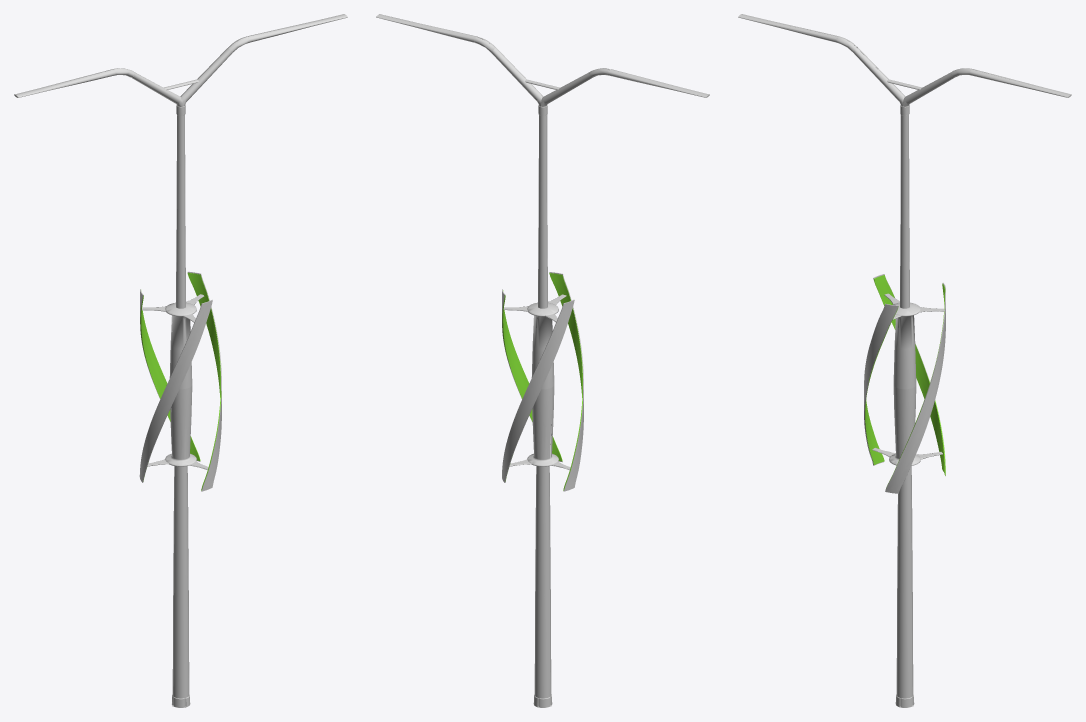
The model's file is fbx_wind_street_light_opt.fbx.
3 views of the same model, side by side, from view 1: azimuth 30°, elevation 25°; view 2: azimuth 150°, elevation 25°; view 3: azimuth 330°, elevation 25° (orthographic).
Parts seen in each view (by area): view 1: Obj_000268, Obj_000008, Obj_000001, Flex2[_006, Flex2[1], Flex2[2], Flex2[_005; view 2: Obj_000268, Obj_000008, Obj_000001, Flex2[_007, Flex2[2], Flex2[3], Flex2[_006; view 3: Obj_000268, Obj_000008, Obj_000001, Flex2[_005, Flex2[1], Flex2[_006, Flex2[3].
Part boxes in pixels (box(x1,y1,x2,y2)): Obj_000268: box(172, 115, 189, 698); Obj_000008: box(165, 302, 196, 466); Obj_000001: box(14, 14, 347, 106); Flex2[_006: box(139, 299, 212, 482); Flex2[1]: box(140, 295, 200, 460); Flex2[2]: box(187, 273, 221, 490); Flex2[_005: box(187, 271, 221, 491); Obj_000268: box(534, 115, 551, 698); Obj_000008: box(527, 302, 558, 466); Obj_000001: box(376, 14, 709, 106); Flex2[_007: box(502, 299, 574, 482); Flex2[2]: box(502, 290, 562, 461); Flex2[3]: box(549, 273, 582, 490); Flex2[_006: box(549, 272, 583, 491); Obj_000268: box(896, 115, 913, 698); Obj_000008: box(889, 302, 920, 465); Obj_000001: box(738, 14, 1071, 106); Flex2[_005: box(885, 282, 945, 493); Flex2[1]: box(873, 275, 945, 475); Flex2[_006: box(864, 303, 898, 465); Flex2[3]: box(865, 306, 898, 464).
Size of the model in its own units: 45.87 by 86.5 by 9.9.
